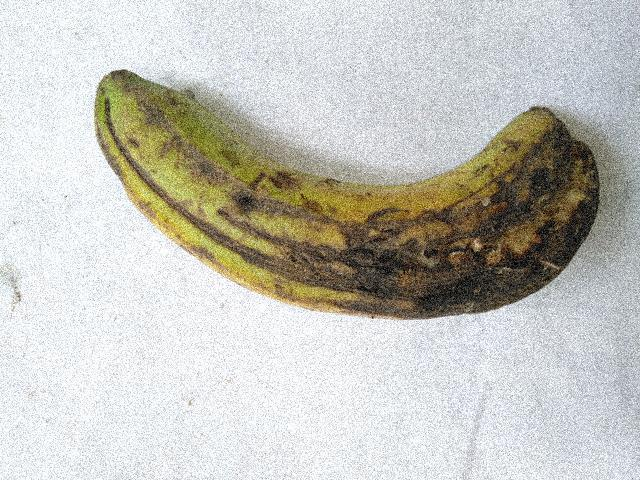rotten: (91, 73, 607, 368)
